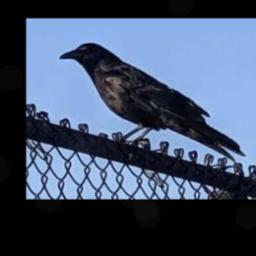Crow: (58, 42, 245, 163)
